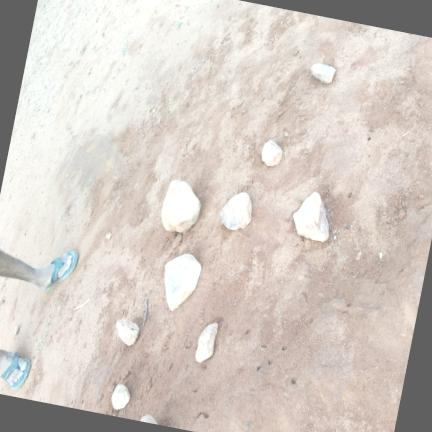Rocks: (164, 254, 200, 310), (161, 180, 199, 232), (292, 192, 328, 241), (219, 193, 251, 230), (195, 323, 216, 362), (115, 320, 138, 345), (310, 63, 334, 84), (261, 141, 281, 166), (111, 384, 129, 410), (140, 414, 156, 423), (397, 209, 405, 220), (13, 326, 18, 335), (105, 233, 110, 240)
